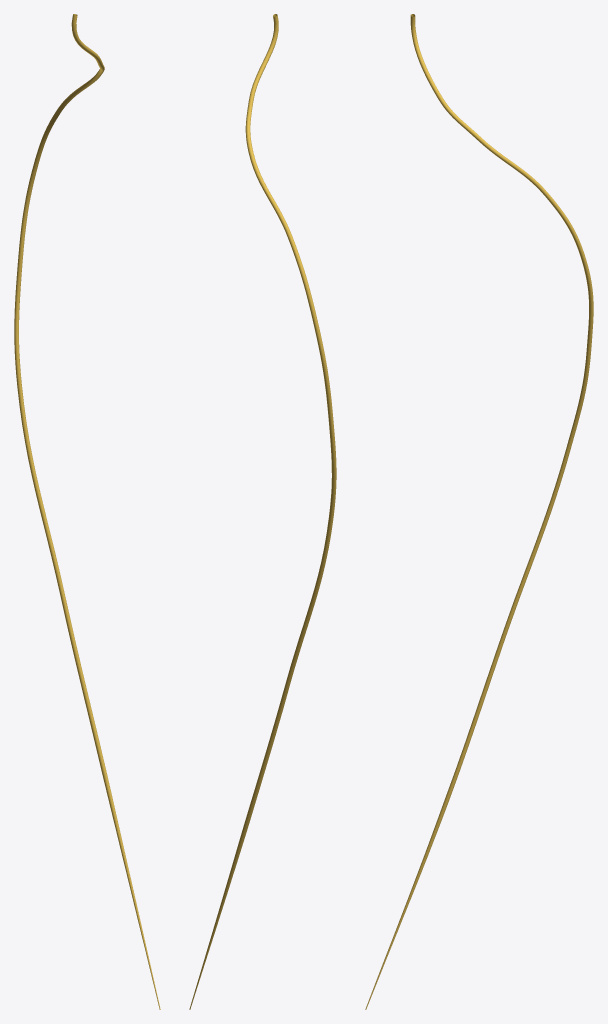
Rendered from Posterior_antebrachial_cutaneous_nerve_left.glb.
3 renders of one model, left to right at view 1: azimuth 30°, elevation 25°; view 2: azimuth 210°, elevation 25°; view 3: azimuth 270°, elevation 25°, orthographic. The views are drawn at different scales.
Parts seen in each view (by area): view 1: Posterior_antebrachial_cutaneous_nerve.l_BezierCurve.491; view 2: Posterior_antebrachial_cutaneous_nerve.l_BezierCurve.491; view 3: Posterior_antebrachial_cutaneous_nerve.l_BezierCurve.491.
Part boxes in pixels (x1,y1,x2,y2): Posterior_antebrachial_cutaneous_nerve.l_BezierCurve.491: (14,14,160,1009); Posterior_antebrachial_cutaneous_nerve.l_BezierCurve.491: (189,14,336,1009); Posterior_antebrachial_cutaneous_nerve.l_BezierCurve.491: (365,14,593,1009).
Bounding box in the file's own units: 0.0159 × 0.2309 × 0.0494.
